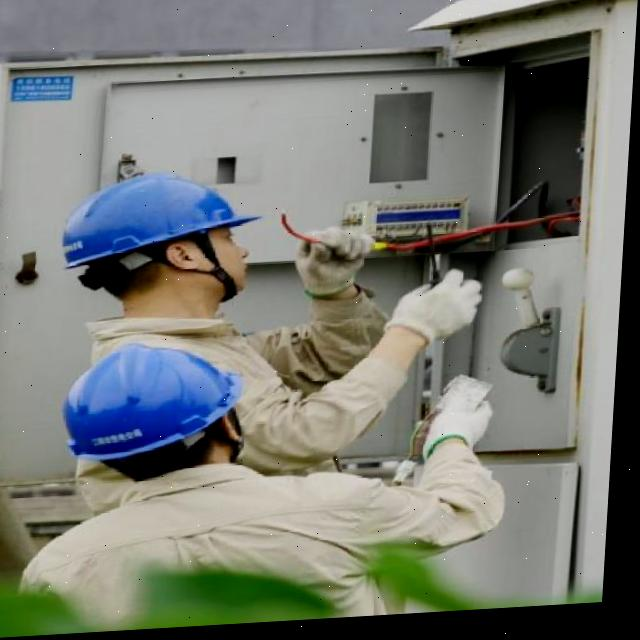Gloves: (387, 271, 488, 354), (425, 378, 500, 467), (295, 227, 379, 302)
Helmet: (65, 339, 250, 466), (63, 170, 267, 271)
Safety-Vest: (75, 291, 410, 511)
